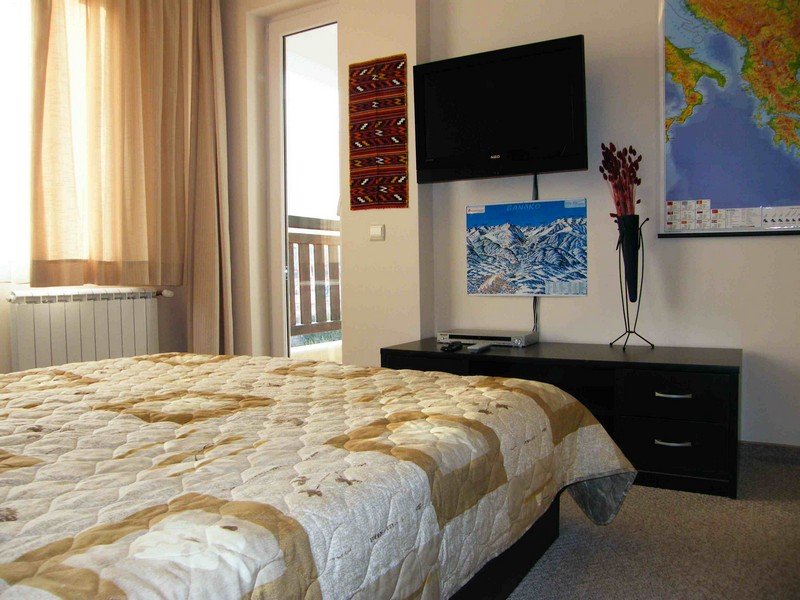bed: (5, 347, 571, 594)
door: (266, 23, 351, 359)
stool: (388, 337, 741, 509)
